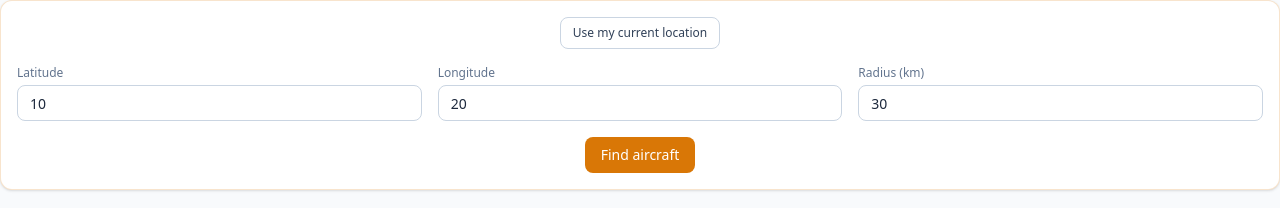
Test: FlyOverForm › current location › fills lat/lng from a granted position and preserves the draft radius
Click the button "Use my current location". click: (640, 33)
box: [560,17,720,49]
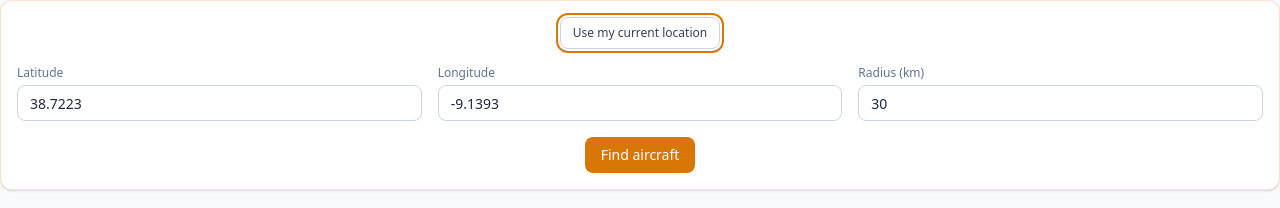
Expected: the field labelled "Radius (km)" holds "30", [858,85,1263,121]
Result: the field labelled "Latitude" holds "38.7223" at [17,85,422,121]
Result: the field labelled "Longitude" holds "-9.1393" at [438,85,842,121]
